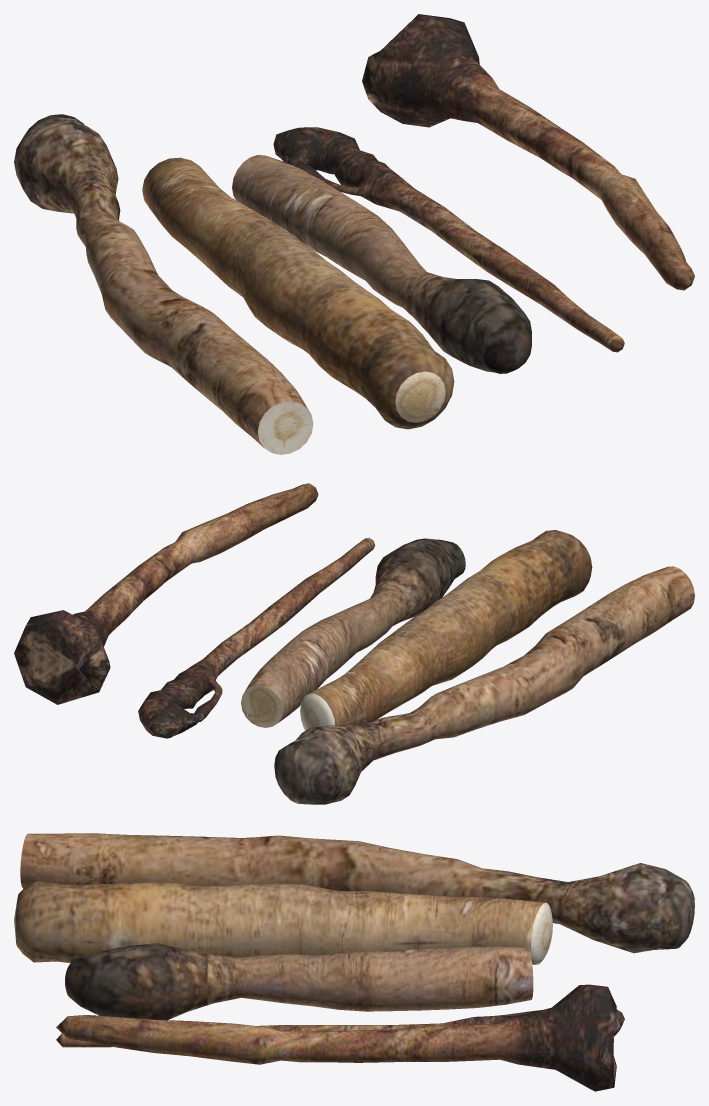
File: banlangen.FBX
3 views of the same model, one above another, from view 1: azimuth 30°, elevation 25°; view 2: azimuth 150°, elevation 25°; view 3: azimuth 270°, elevation 25° (orthographic). The views are drawn at different scales.
Visible parts, largest first — view 1: Cylinder003, Cylinder002, Cylinder001, Cylinder006, Cylinder005; view 2: Cylinder002, Cylinder003, Cylinder006, Cylinder001, Cylinder005; view 3: Cylinder003, Cylinder002, Cylinder001, Cylinder006, Cylinder005.
Boxes of the visible parts, x1=… form: Cylinder003: x1=142, y1=157, x2=454, y2=429; Cylinder002: x1=14, y1=114, x2=313, y2=454; Cylinder001: x1=232, y1=155, x2=531, y2=373; Cylinder006: x1=362, y1=14, x2=694, y2=290; Cylinder005: x1=273, y1=127, x2=624, y2=352; Cylinder002: x1=274, y1=566, x2=694, y2=804; Cylinder003: x1=300, y1=530, x2=592, y2=730; Cylinder006: x1=14, y1=483, x2=318, y2=704; Cylinder001: x1=241, y1=538, x2=465, y2=727; Cylinder005: x1=138, y1=537, x2=375, y2=738; Cylinder003: x1=14, y1=880, x2=552, y2=964; Cylinder002: x1=20, y1=833, x2=694, y2=953; Cylinder001: x1=65, y1=943, x2=533, y2=1020; Cylinder006: x1=56, y1=984, x2=616, y2=1091; Cylinder005: x1=56, y1=1009, x2=624, y2=1047.
Size of the model in its own units: 46.66 by 11 by 55.84.
